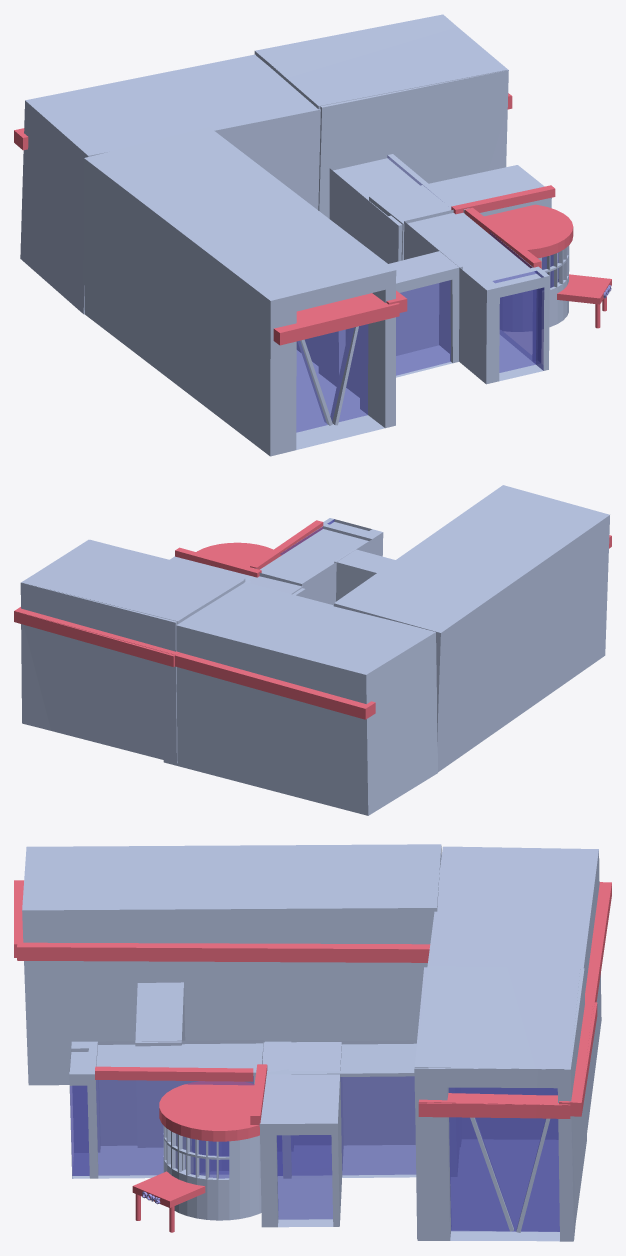
The model's file is doms.glb.
3 renders of one model, top to bottom at view 1: azimuth 30°, elevation 25°; view 2: azimuth 150°, elevation 25°; view 3: azimuth 270°, elevation 25°, orthographic. The views are drawn at different scales.
Visible parts, largest first — view 1: Cube.006, Cube.007, Cube.005, Cube.001, Cube.004, Cube.002, Cylinder.002, Cube.003, Cube, Cube.009, Cube.008; view 2: Cube.007, Cube.006, Cube.004, Cube.005, Cube.001, Cube.002, Cylinder.002, Cube, Cube.009, Cube.008; view 3: Cube.006, Cube.004, Cube.005, Cube.007, Cube.001, Cube, Cube.003, Cylinder.002, Cube.002, Cube.008, Cube.009.
Part boxes in pixels (box(x1,y1,x2,y2)): Cube.006: box(83, 127, 407, 456); Cube.007: box(14, 54, 320, 314); Cube.005: box(256, 14, 512, 218); Cube.001: box(404, 208, 549, 384); Cube.004: box(254, 14, 510, 170); Cube.002: box(318, 250, 462, 386); Cylinder.002: box(484, 204, 611, 331); Cube.003: box(329, 154, 454, 263); Cube: box(369, 165, 551, 260); Cube.009: box(451, 185, 555, 214); Cube.008: box(464, 207, 541, 268); Cube.007: box(154, 582, 437, 815); Cube.006: box(333, 485, 611, 772); Cube.004: box(14, 539, 244, 763); Cube.005: box(14, 539, 245, 730); Cube.001: box(256, 518, 383, 605); Cube.002: box(334, 548, 395, 601); Cylinder.002: box(196, 542, 273, 566); Cube: box(170, 556, 302, 594); Cube.009: box(175, 547, 261, 577); Cube.008: box(250, 520, 323, 569); Cube.006: box(14, 844, 441, 1085); Cube.004: box(414, 966, 597, 1241); Cube.005: box(414, 967, 593, 1241); Cube.007: box(427, 846, 611, 1146); Cube.001: box(69, 1040, 263, 1178); Cube: box(259, 1042, 343, 1227); Cube.003: box(265, 1040, 459, 1178); Cylinder.002: box(132, 1081, 261, 1232); Cube.002: box(135, 982, 185, 1147); Cube.008: box(95, 1066, 253, 1081); Cube.009: box(250, 1064, 267, 1124).
Size of the model in its own units: 20.61 by 7.64 by 22.95.
